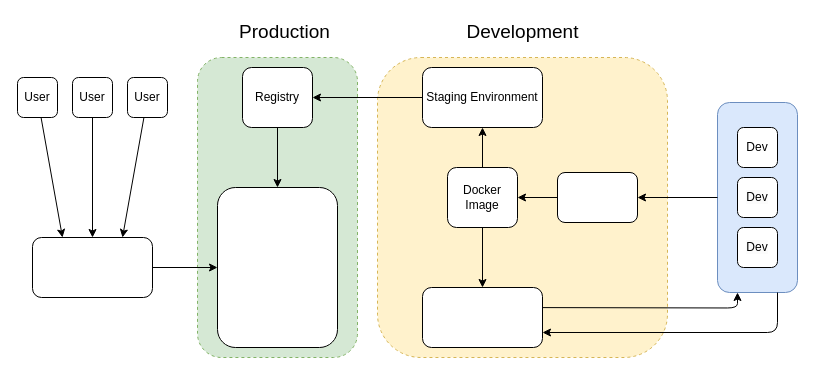
Image size: 815x375. Some labels were removed from this diagram. The shapes that lost their labels are listed below. From the top down, each one's centre as x and y in pixels, then its label:
At point 597,197: "Dockerfile".
At point 92,267: "Applications".
At point 277,267: "Application Environment w/ Containers".
At point 482,317: "Test Environment".
